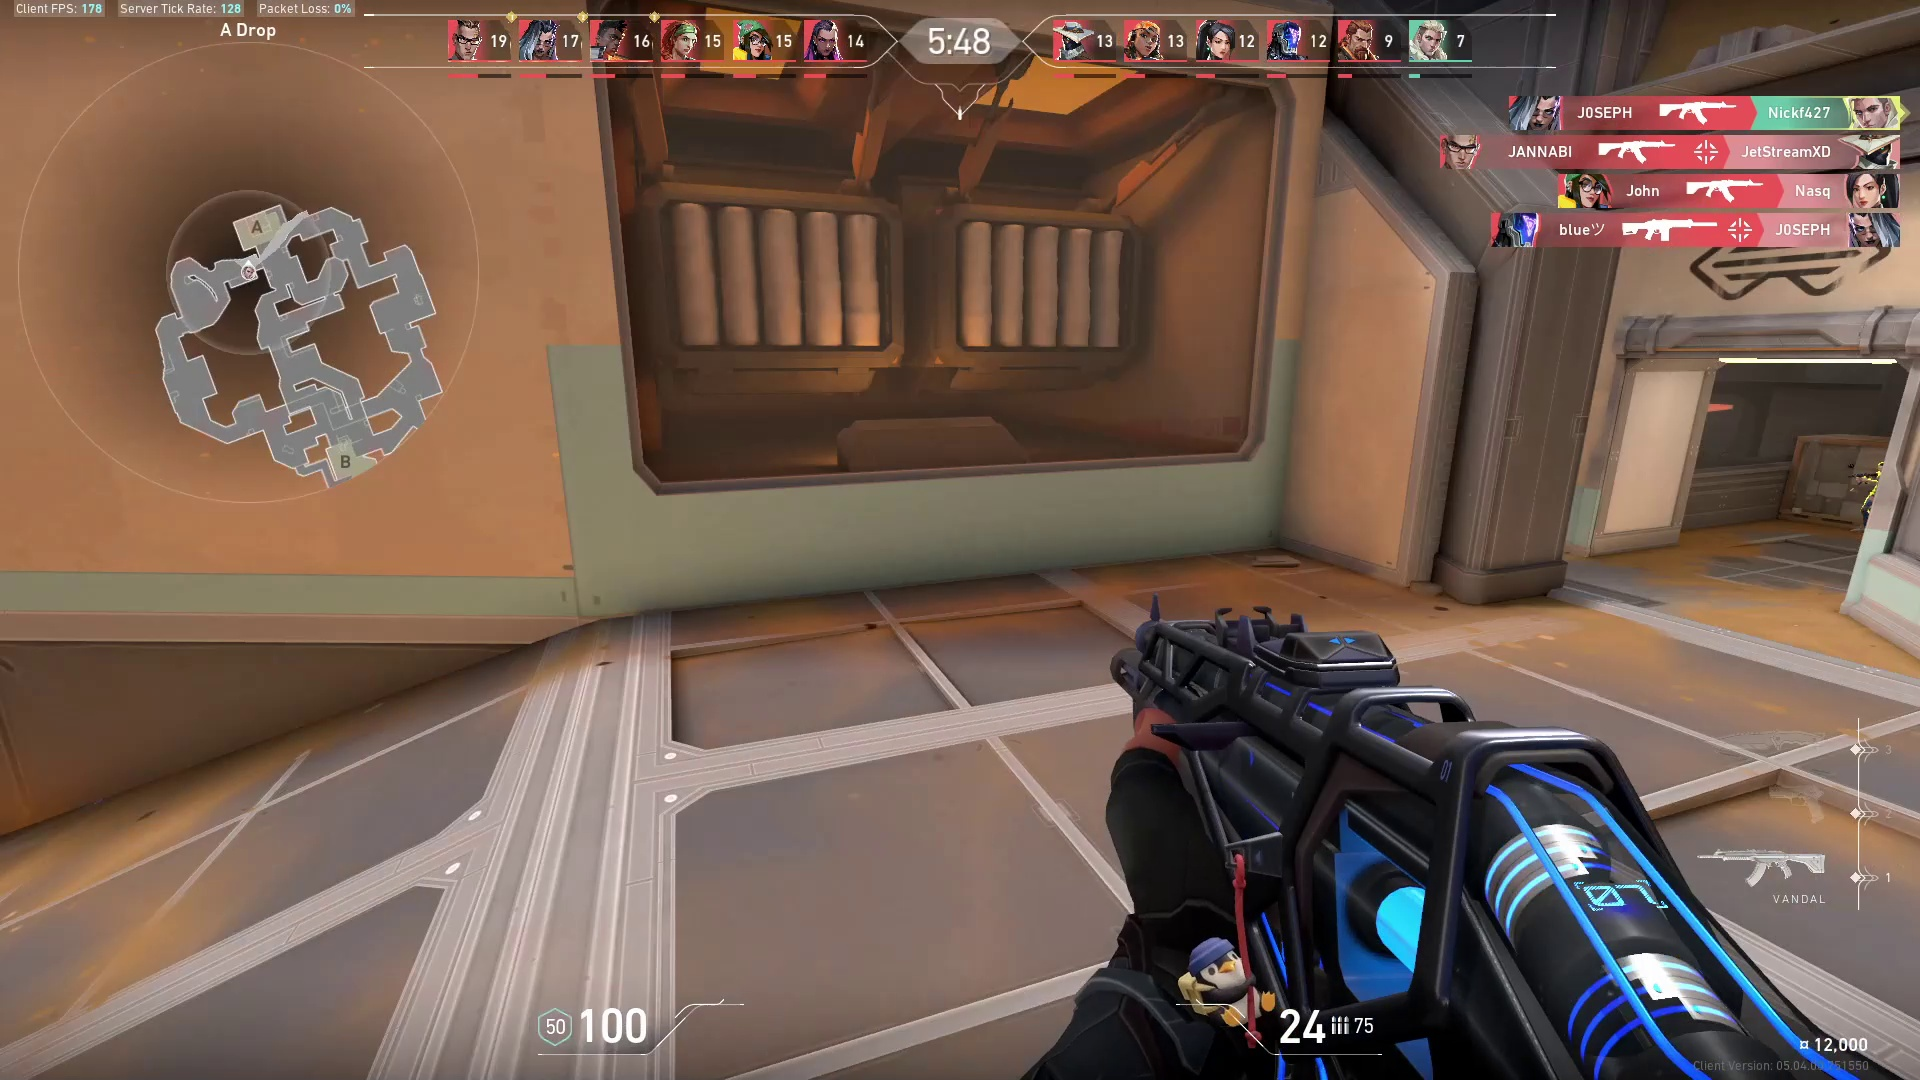enemy_body: (1850, 472, 1886, 529)
enemy_head: (1875, 459, 1884, 473)
